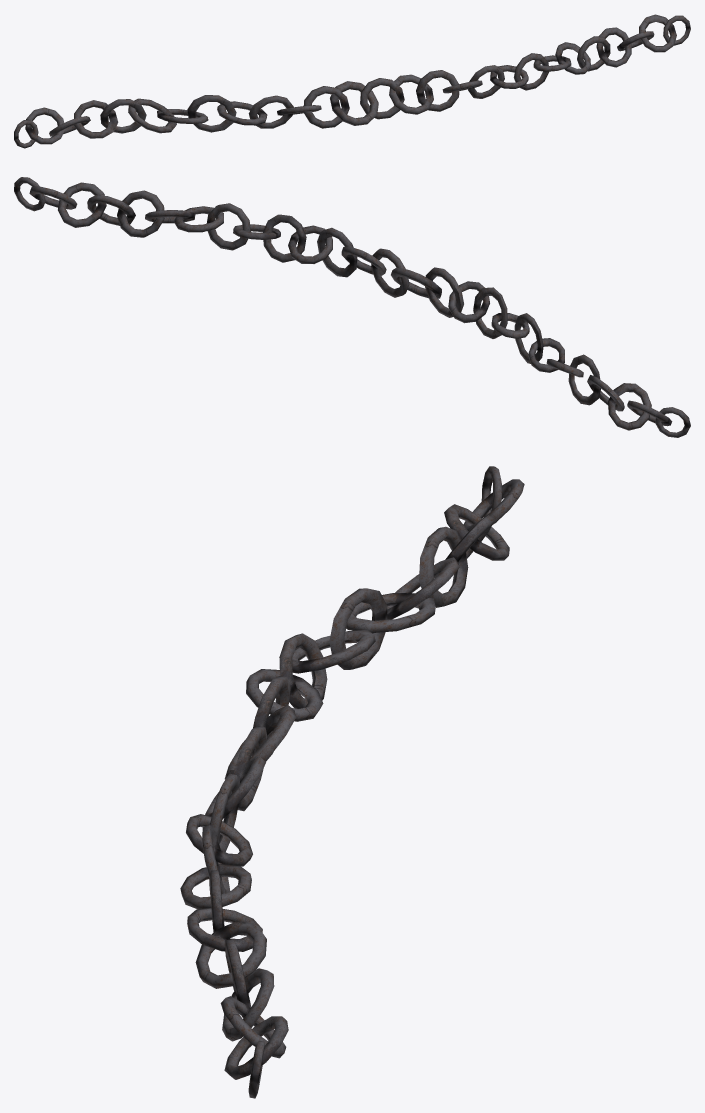
File: Castle Wall Ring Chain 09.fbx
3 renders of one model, top to bottom at view 1: azimuth 30°, elevation 25°; view 2: azimuth 150°, elevation 25°; view 3: azimuth 270°, elevation 25°, orthographic. The views are drawn at different scales.
Parts seen in each view (by area): view 1: Cube; view 2: Cube; view 3: Cube.
Part boxes in pixels (x1,y1,x2,y2): Cube: [14, 14, 690, 148]; Cube: [14, 177, 690, 437]; Cube: [180, 466, 524, 1098].
Bounding box in the file's own units: 329 × 21.4 × 79.19.
